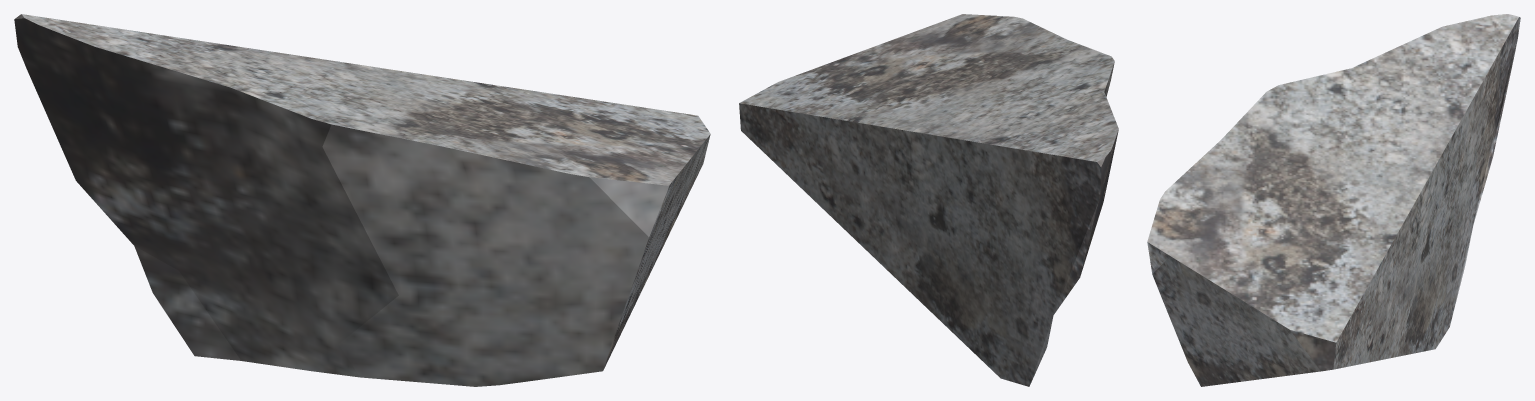
File: Asteroid_Large_001_02_002_03_032.fbx
3 renders of one model, left to right at view 1: azimuth 30°, elevation 25°; view 2: azimuth 150°, elevation 25°; view 3: azimuth 270°, elevation 25°, orthographic. The views are drawn at different scales.
Visible parts, largest first — view 1: Asteroid_Large_001_02_002_03_032; view 2: Asteroid_Large_001_02_002_03_032; view 3: Asteroid_Large_001_02_002_03_032.
Boxes of the visible parts, bbox=[...] form: Asteroid_Large_001_02_002_03_032: bbox=[14, 14, 710, 386]; Asteroid_Large_001_02_002_03_032: bbox=[739, 14, 1118, 386]; Asteroid_Large_001_02_002_03_032: bbox=[1147, 14, 1520, 386].
Bounding box in the file's own units: 11.83 × 7 × 8.8.
